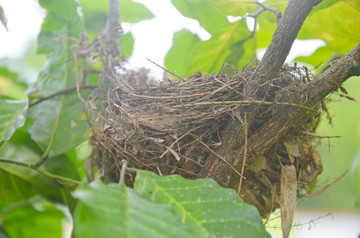bird-nest: (90, 63, 324, 203)
